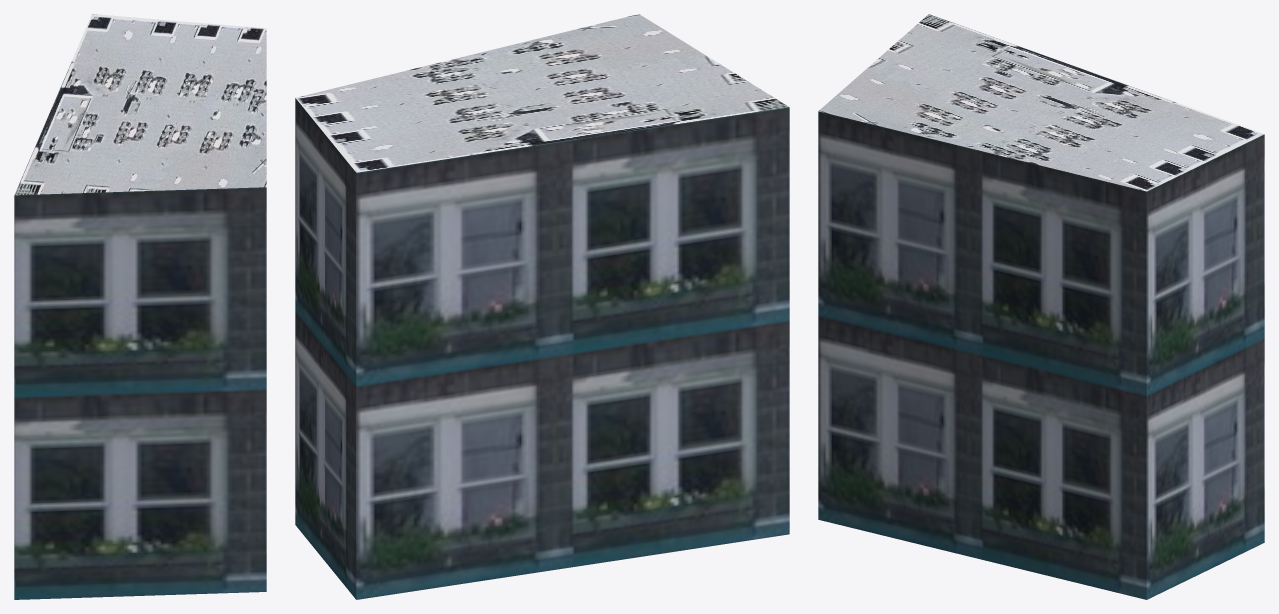
Rendered from ResTex__2678.fbx.
3 views of the same model, side by side, from view 1: azimuth 30°, elevation 25°; view 2: azimuth 150°, elevation 25°; view 3: azimuth 270°, elevation 25° (orthographic). The views are drawn at different scales.
Visible parts, largest first — view 1: CityEngineMaterial_11_m, CityEngineMaterial_8_m; view 2: CityEngineMaterial_11_m, CityEngineMaterial_8_m; view 3: CityEngineMaterial_11_m, CityEngineMaterial_8_m.
Boxes of the visible parts, <box> form: CityEngineMaterial_11_m: <box>14,187,266,599</box>; CityEngineMaterial_8_m: <box>14,14,266,195</box>; CityEngineMaterial_11_m: <box>295,98,789,599</box>; CityEngineMaterial_8_m: <box>295,14,789,172</box>; CityEngineMaterial_11_m: <box>818,111,1264,599</box>; CityEngineMaterial_8_m: <box>818,14,1264,191</box>.
Bounding box in the file's own units: 5.59 × 6 × 5.94.
2 materials, 2 textured.
